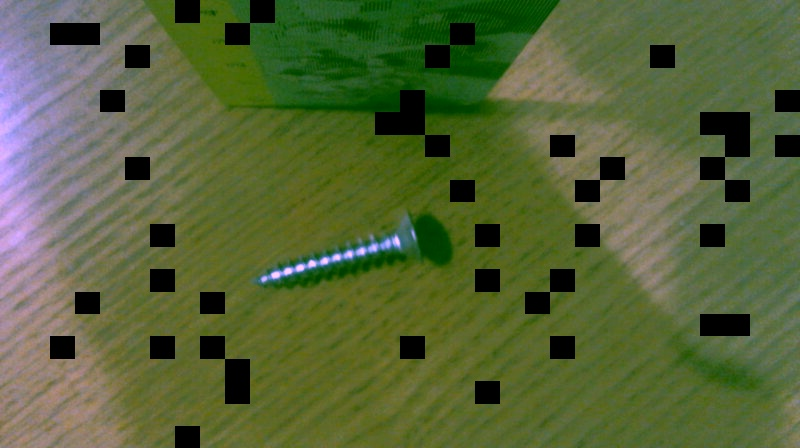S001: (250, 205, 427, 296)
